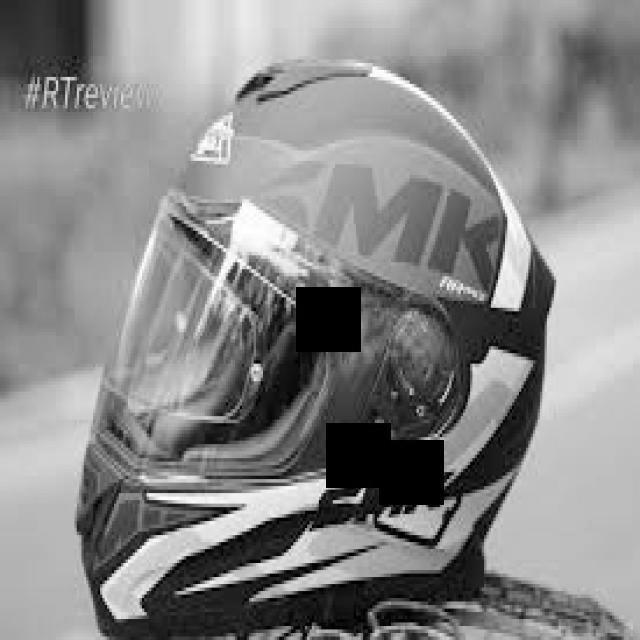helmet: (74, 55, 556, 638)
